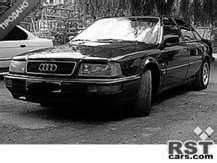car: (4, 16, 213, 118)
